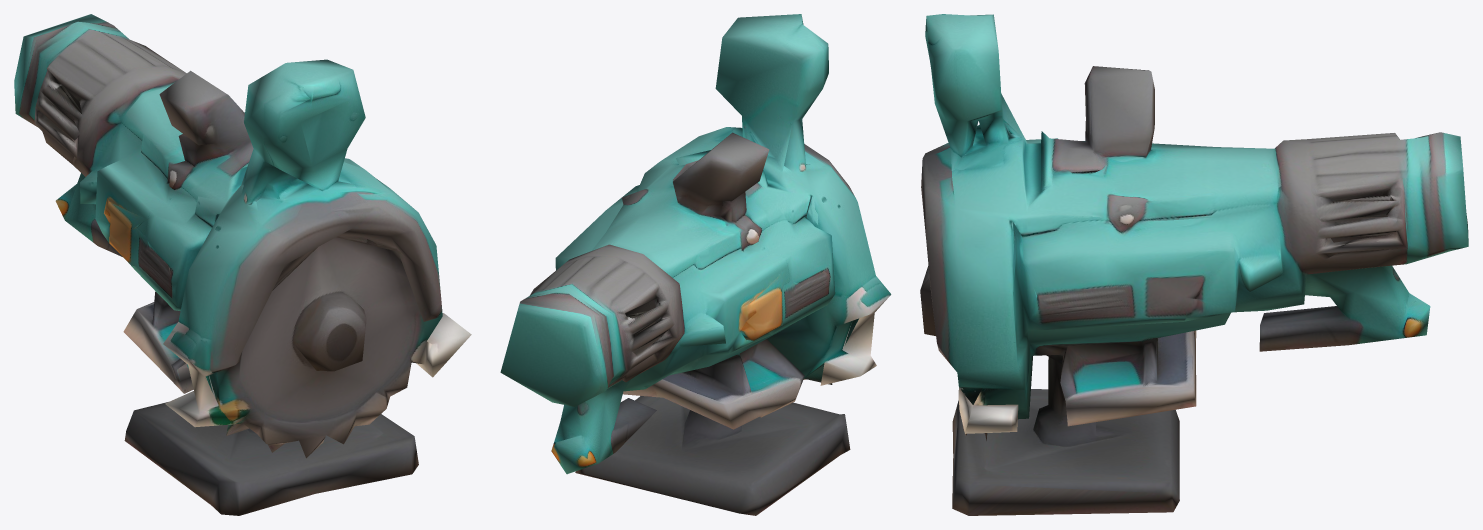
The model's file is weapon_circular_saw_tertiary_1500_raw.glb.
The picture shows the model from 3 angles, left to right: view 1: azimuth 30°, elevation 25°; view 2: azimuth 150°, elevation 25°; view 3: azimuth 270°, elevation 25°; orthographic projection. The views are drawn at different scales.
Parts seen in each view (by area): view 1: tripo_node_02a2233c-d038-4143-91fd-bfe44889220e; view 2: tripo_node_02a2233c-d038-4143-91fd-bfe44889220e; view 3: tripo_node_02a2233c-d038-4143-91fd-bfe44889220e.
Part boxes in pixels (x1,y1,x2,y2): tripo_node_02a2233c-d038-4143-91fd-bfe44889220e: [14, 14, 471, 515]; tripo_node_02a2233c-d038-4143-91fd-bfe44889220e: [500, 14, 891, 515]; tripo_node_02a2233c-d038-4143-91fd-bfe44889220e: [920, 14, 1468, 515].
Bounding box in the file's own units: 0.6155 × 0.8568 × 0.97.
Materials: 1 (1 with a texture image).
